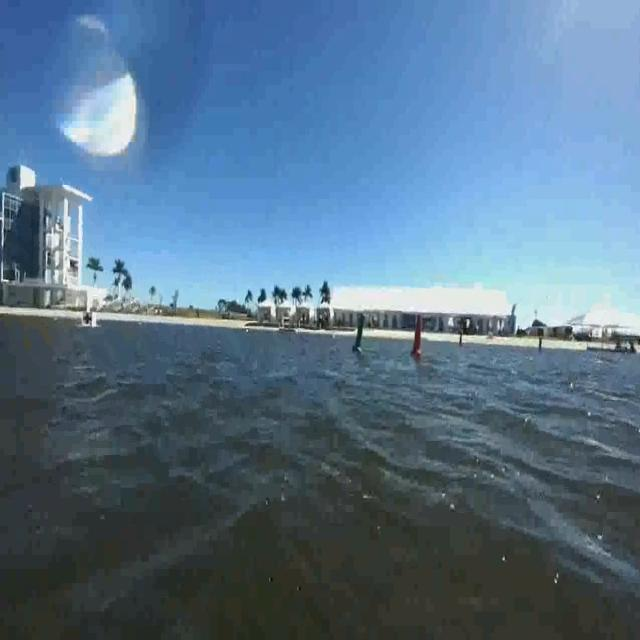green-column-buoy: (353, 311, 368, 354)
red-column-buoy: (410, 316, 426, 360)
